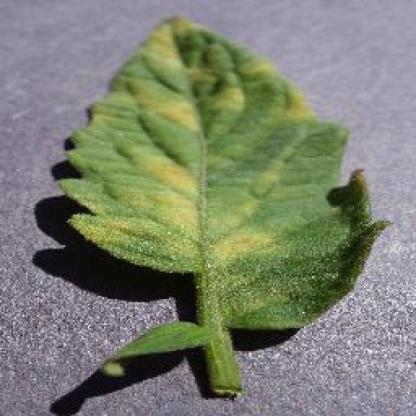Tomato_Leaf_Mold: (63, 23, 379, 285)
